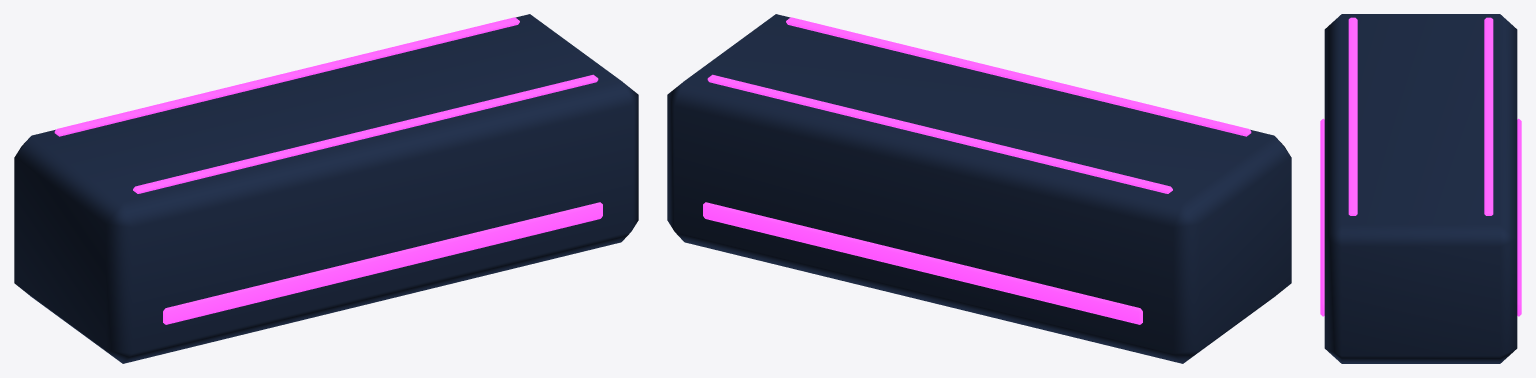
Rendered from NT_Cover_Rect_Magenta.fbx.
3 views of the same model, side by side, from view 1: azimuth 30°, elevation 25°; view 2: azimuth 150°, elevation 25°; view 3: azimuth 270°, elevation 25° (orthographic). The views are drawn at different scales.
Visible parts, largest first — view 1: NT_Cover_Rect_Magenta__CoverMesh; view 2: NT_Cover_Rect_Magenta__CoverMesh; view 3: NT_Cover_Rect_Magenta__CoverMesh.
Part boxes in pixels (x1,y1,x2,y2): NT_Cover_Rect_Magenta__CoverMesh: [14, 14, 638, 363]; NT_Cover_Rect_Magenta__CoverMesh: [667, 14, 1291, 363]; NT_Cover_Rect_Magenta__CoverMesh: [1320, 14, 1521, 363].
Size of the model in its own units: 2.35 by 0.703 by 0.889.
